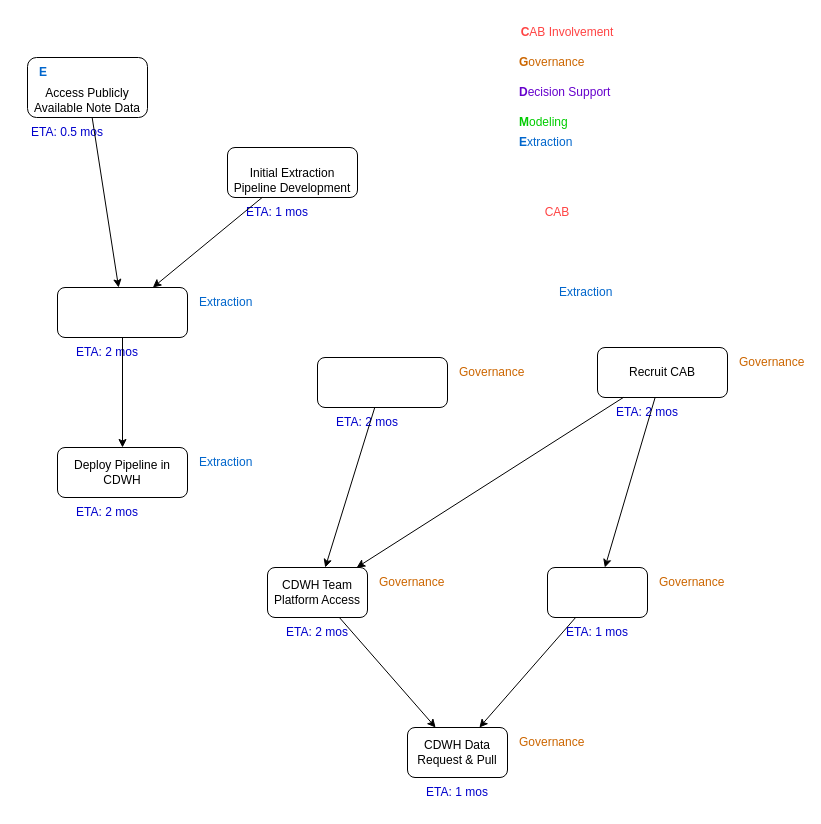
Some shapes in this 821 by 824 pixel diagram are drawn without their labels. Here are the shapes that lost their labels. From the top down, the centre of each, then its label:
point (122, 312): Eval Extraction on Public Benchmarks
point (382, 382): IRB Submission & Approval
point (597, 592): Phenotype Definitions
